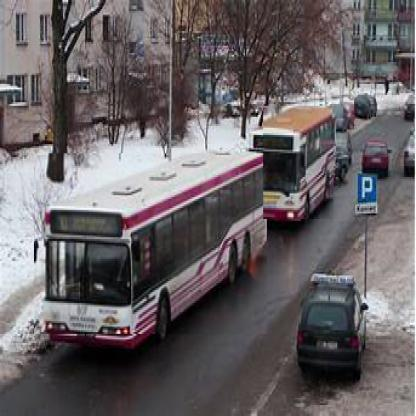bus: (35, 154, 269, 337), (264, 107, 336, 222)
car: (299, 282, 365, 377), (364, 141, 389, 180), (400, 125, 416, 180), (401, 94, 416, 125), (345, 100, 357, 133), (337, 133, 353, 155), (333, 107, 347, 132), (370, 94, 381, 120), (359, 94, 370, 120)
